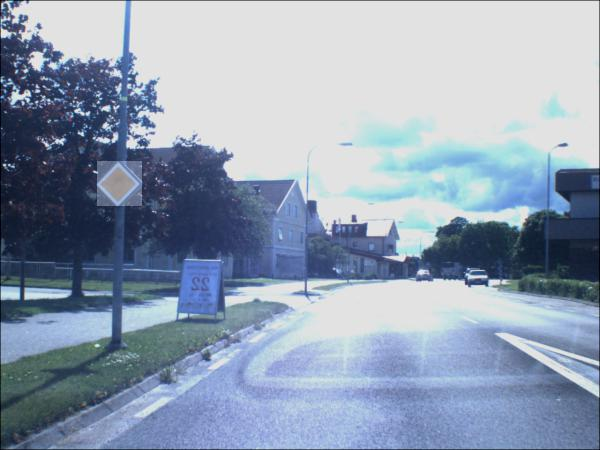PRIORITY_ROAD: (97, 162, 143, 208)
